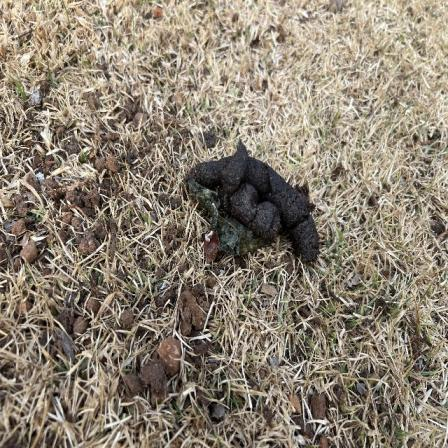dog-poop: (182, 147, 322, 263)
